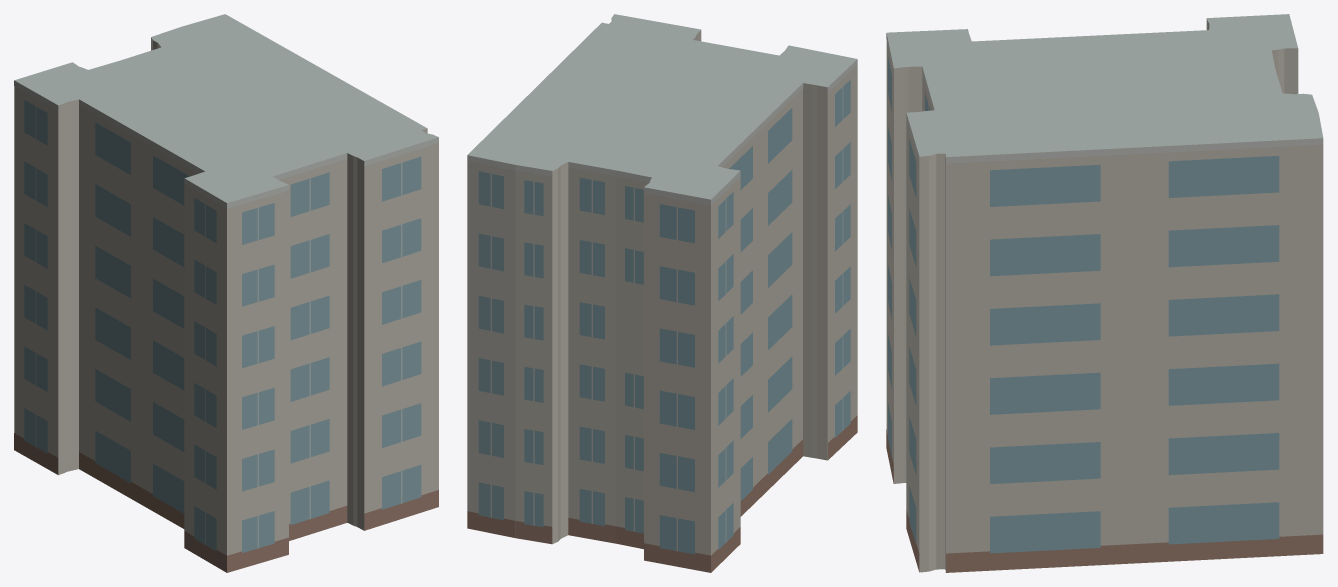
Rendered from survey-upis-32890991.glb.
3 views of the same model, side by side, from view 1: azimuth 30°, elevation 25°; view 2: azimuth 150°, elevation 25°; view 3: azimuth 270°, elevation 25° (orthographic). The views are drawn at different scales.
Visible parts, largest first — view 1: survey-upis-32890991.tmp; view 2: survey-upis-32890991.tmp; view 3: survey-upis-32890991.tmp.
Boxes of the visible parts, bbox=[...] form: survey-upis-32890991.tmp: bbox=[14, 14, 438, 572]; survey-upis-32890991.tmp: bbox=[467, 14, 857, 572]; survey-upis-32890991.tmp: bbox=[886, 14, 1323, 572].
Size of the model in its own units: 11.75 by 15.9 by 15.15.
